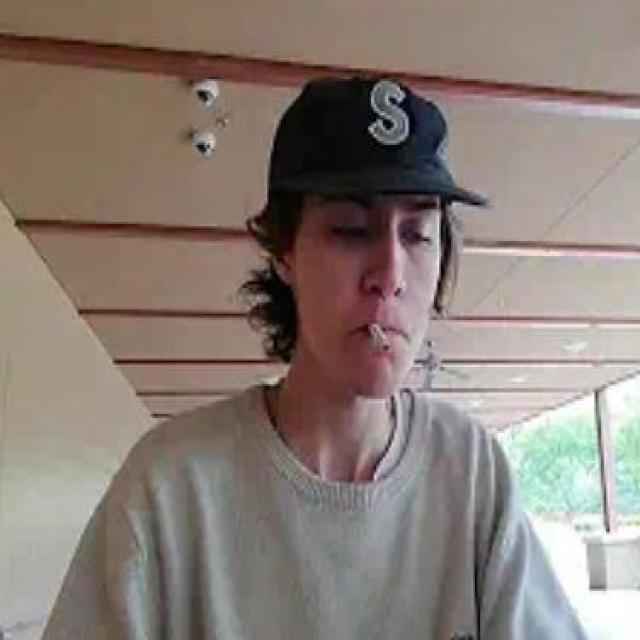smoke: (359, 303, 402, 375)
